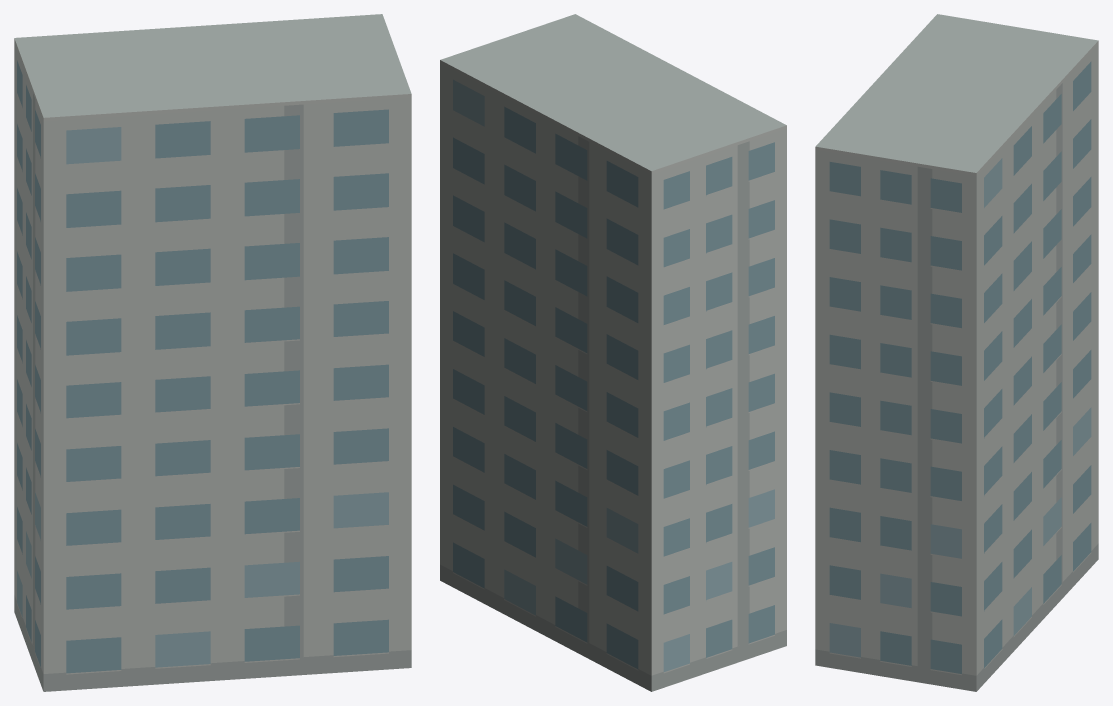
File: residential-0ff8e8b8-1393-4922-a121-c4b28b109475.glb
3 views of the same model, side by side, from view 1: azimuth 30°, elevation 25°; view 2: azimuth 150°, elevation 25°; view 3: azimuth 270°, elevation 25° (orthographic). The views are drawn at different scales.
Parts seen in each view (by area): view 1: residential-0ff8e8b8-1393-4922-a121-c4b28b109475.tmp; view 2: residential-0ff8e8b8-1393-4922-a121-c4b28b109475.tmp; view 3: residential-0ff8e8b8-1393-4922-a121-c4b28b109475.tmp.
Boxes of the visible parts, <box> form: residential-0ff8e8b8-1393-4922-a121-c4b28b109475.tmp: <box>14,14,411,691</box>; residential-0ff8e8b8-1393-4922-a121-c4b28b109475.tmp: <box>440,14,786,691</box>; residential-0ff8e8b8-1393-4922-a121-c4b28b109475.tmp: <box>815,14,1098,691</box>.
Bounding box in the file's own units: 25.65 × 39 × 19.3.
